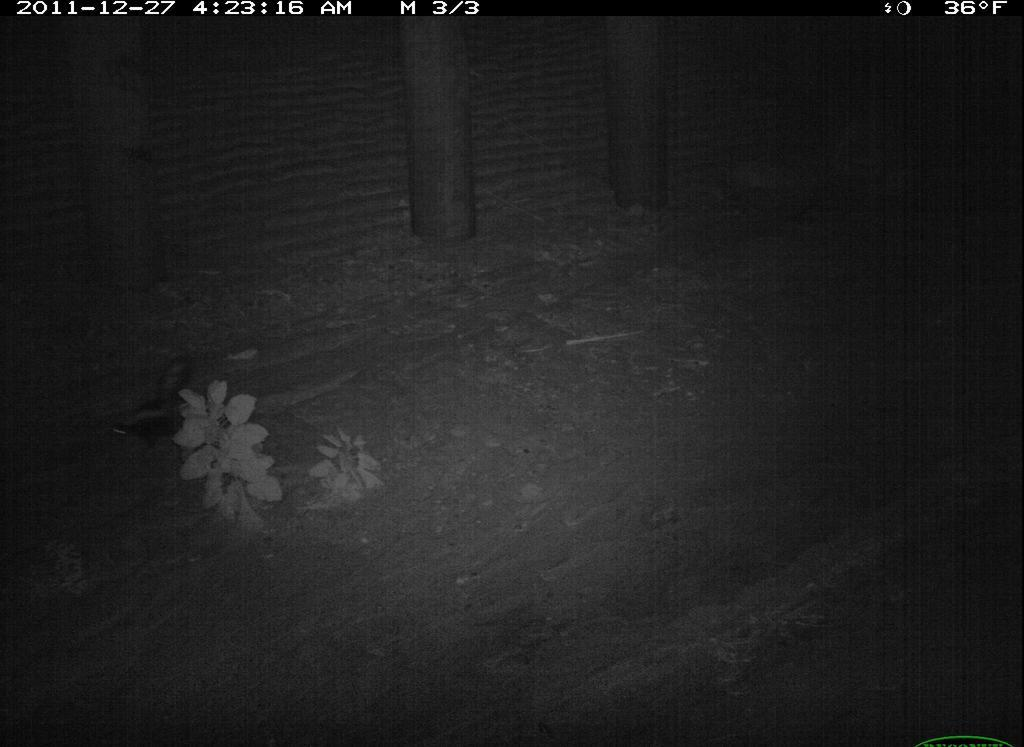skunk: (203, 694, 413, 747)
